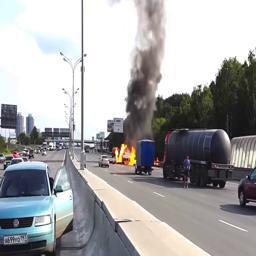fire: (114, 143, 136, 165)
